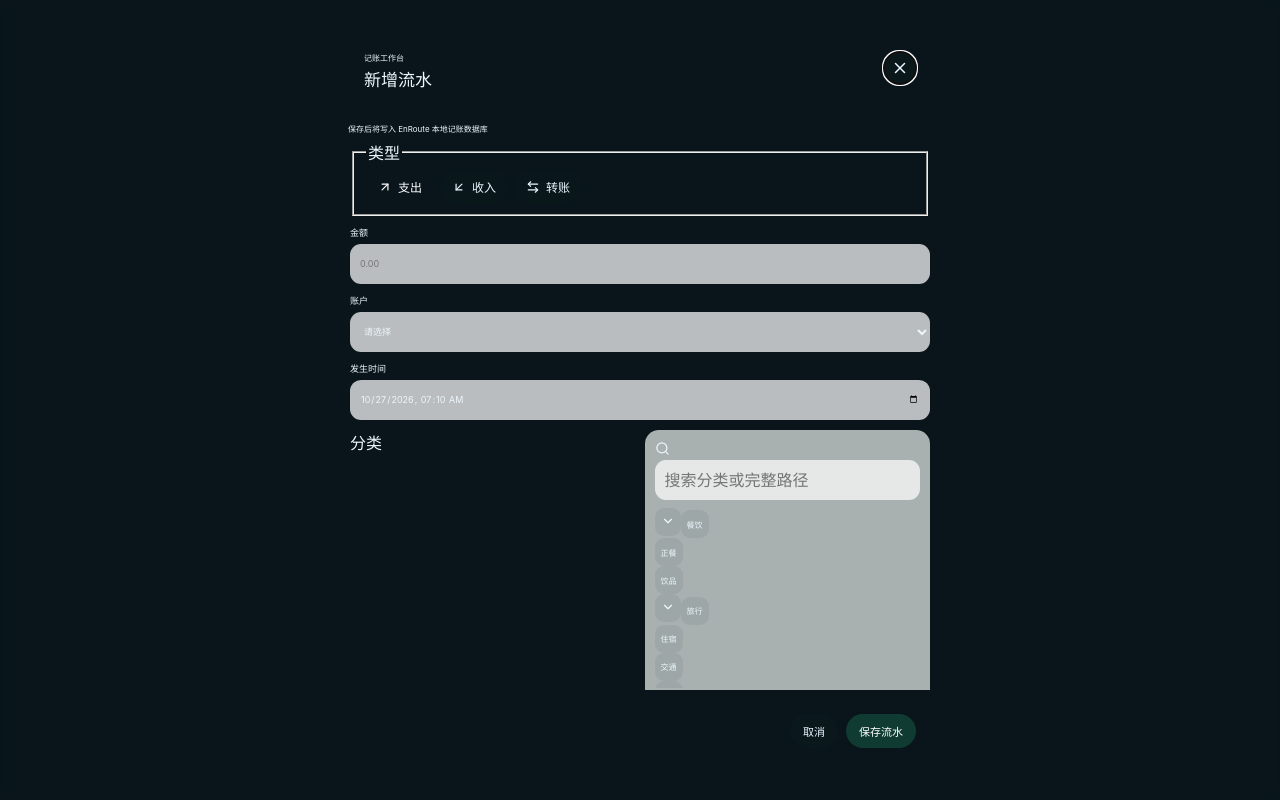
Test: TransactionDialog › retains values and shows field errors for an invalid transfer
Click the button "转账".
click(548, 187)  # box [514,170,582,204]
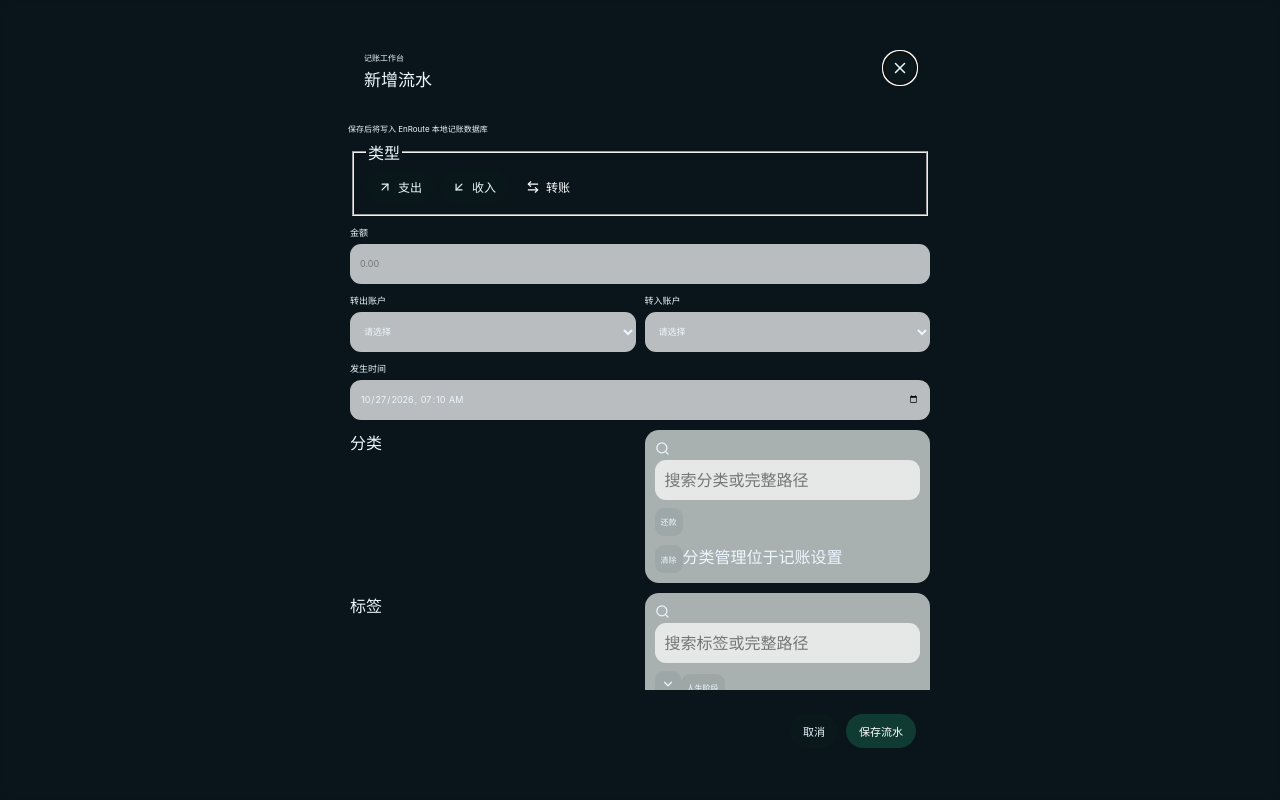
Type "20.00" into the field labelled "金额".
click(640, 264); type("20.00")  # box [350,244,930,284]
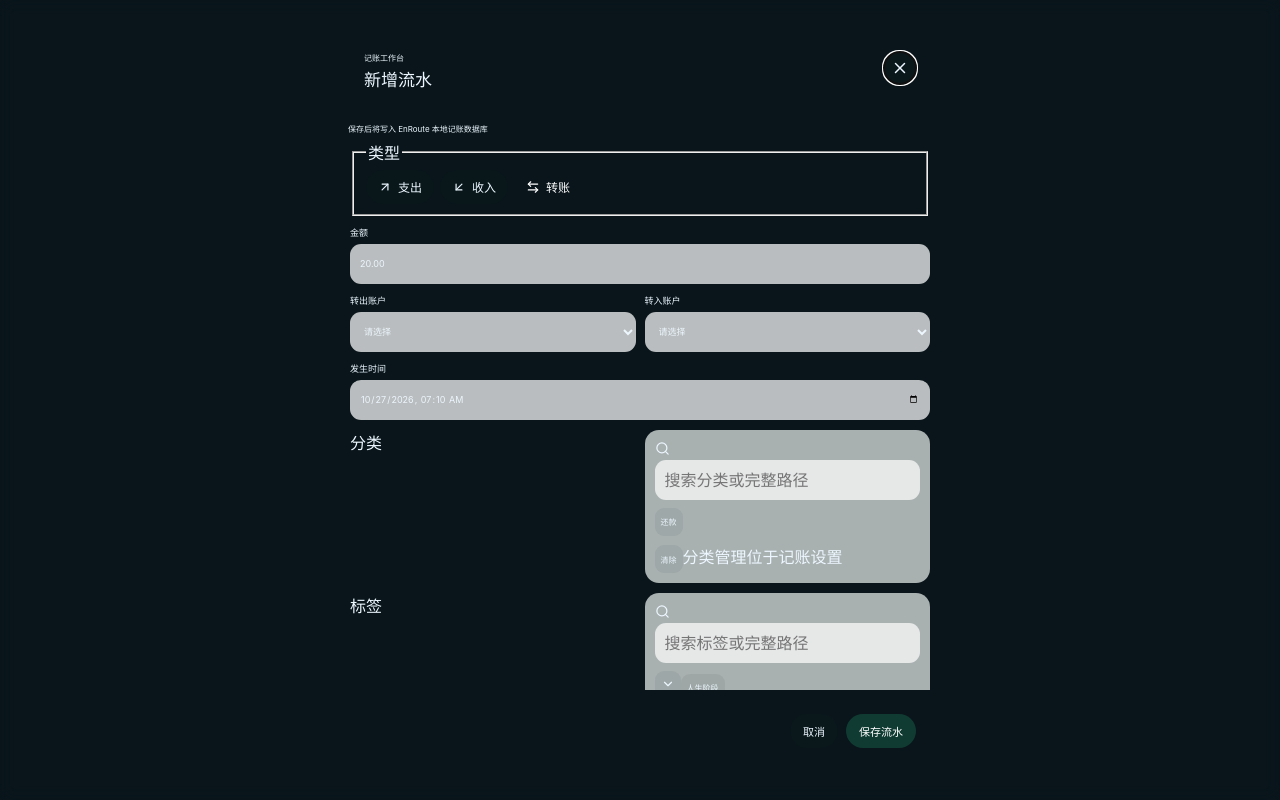
Select "微信 - 日常" in the dropdown labelled "转出账户" at (493, 332), box [350,312,636,352]
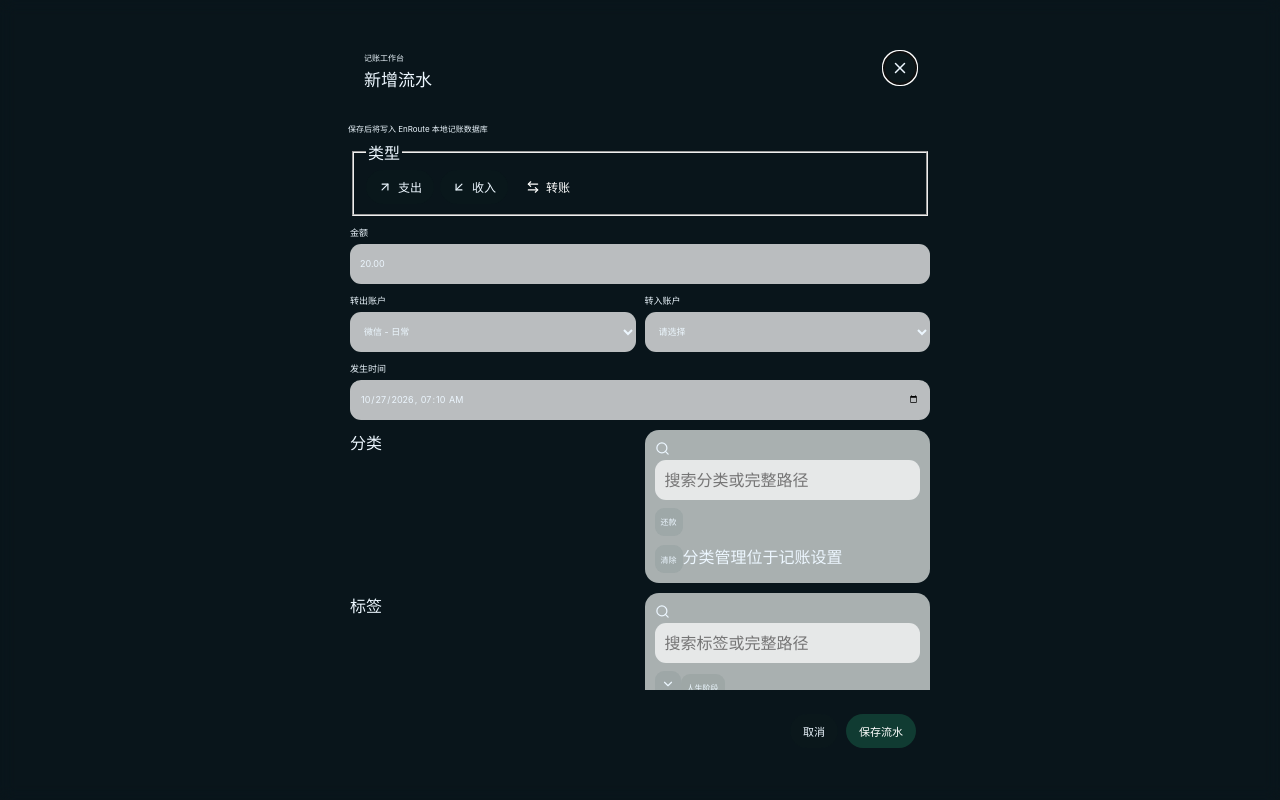
Select "微信 - 日常" in the dropdown labelled "转入账户" at (787, 332), box [644,312,930,352]
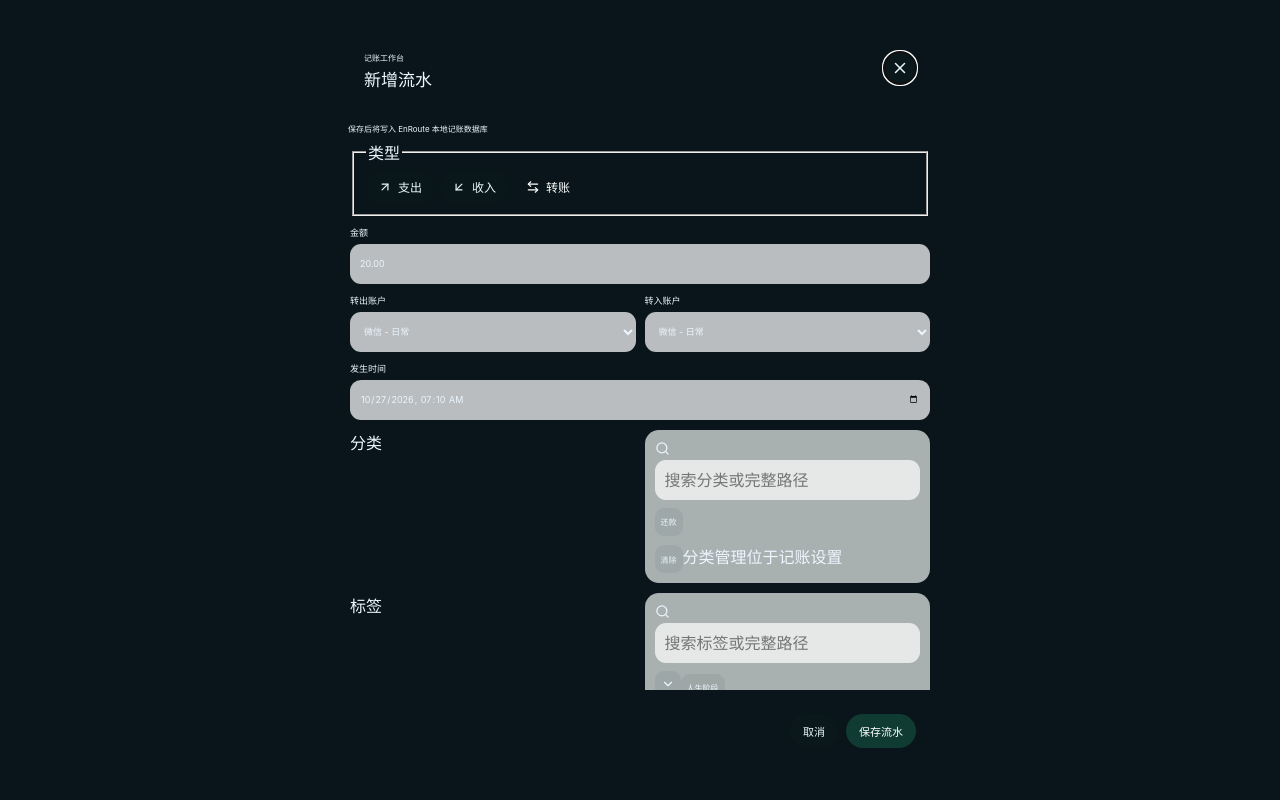
Click the button "保存流水".
click(881, 731)  # box [846,714,916,748]
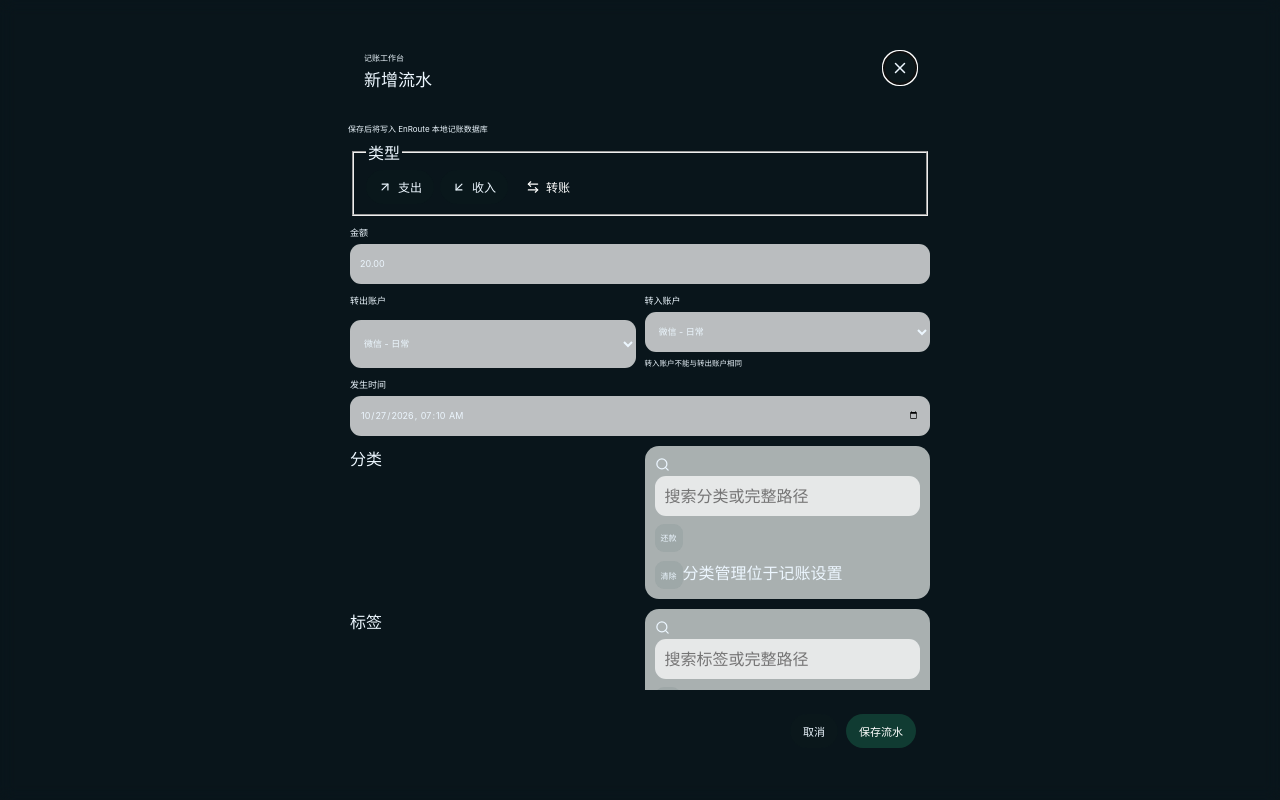
Result: the text "转入账户不能与转出账户相同" is shown at [644,359,742,368]
